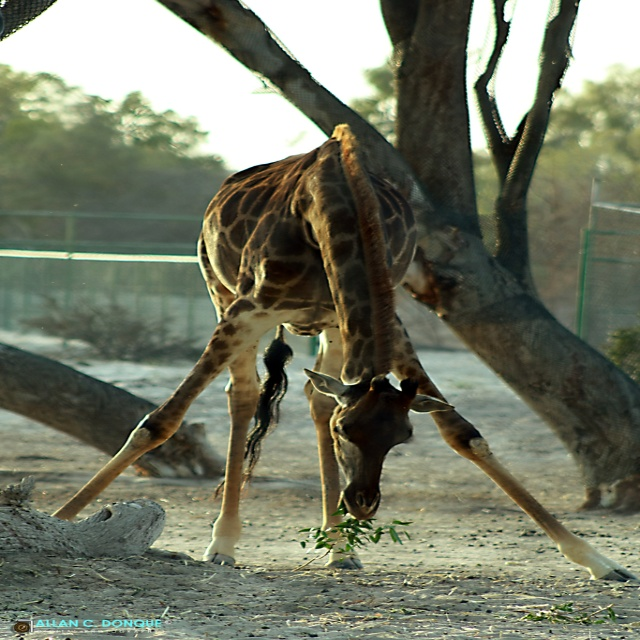Giraffe: (48, 121, 638, 577)
